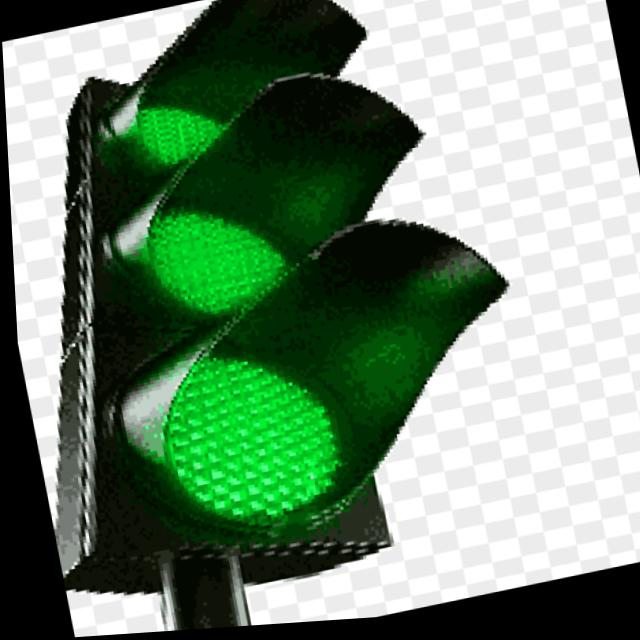green_light: (97, 285, 411, 557), (63, 0, 412, 203), (123, 116, 381, 350)
